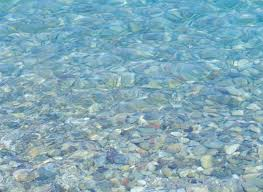sea: (3, 2, 263, 187)
